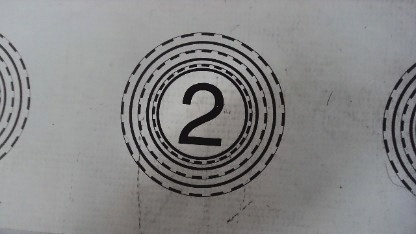2r: (118, 30, 285, 197)
